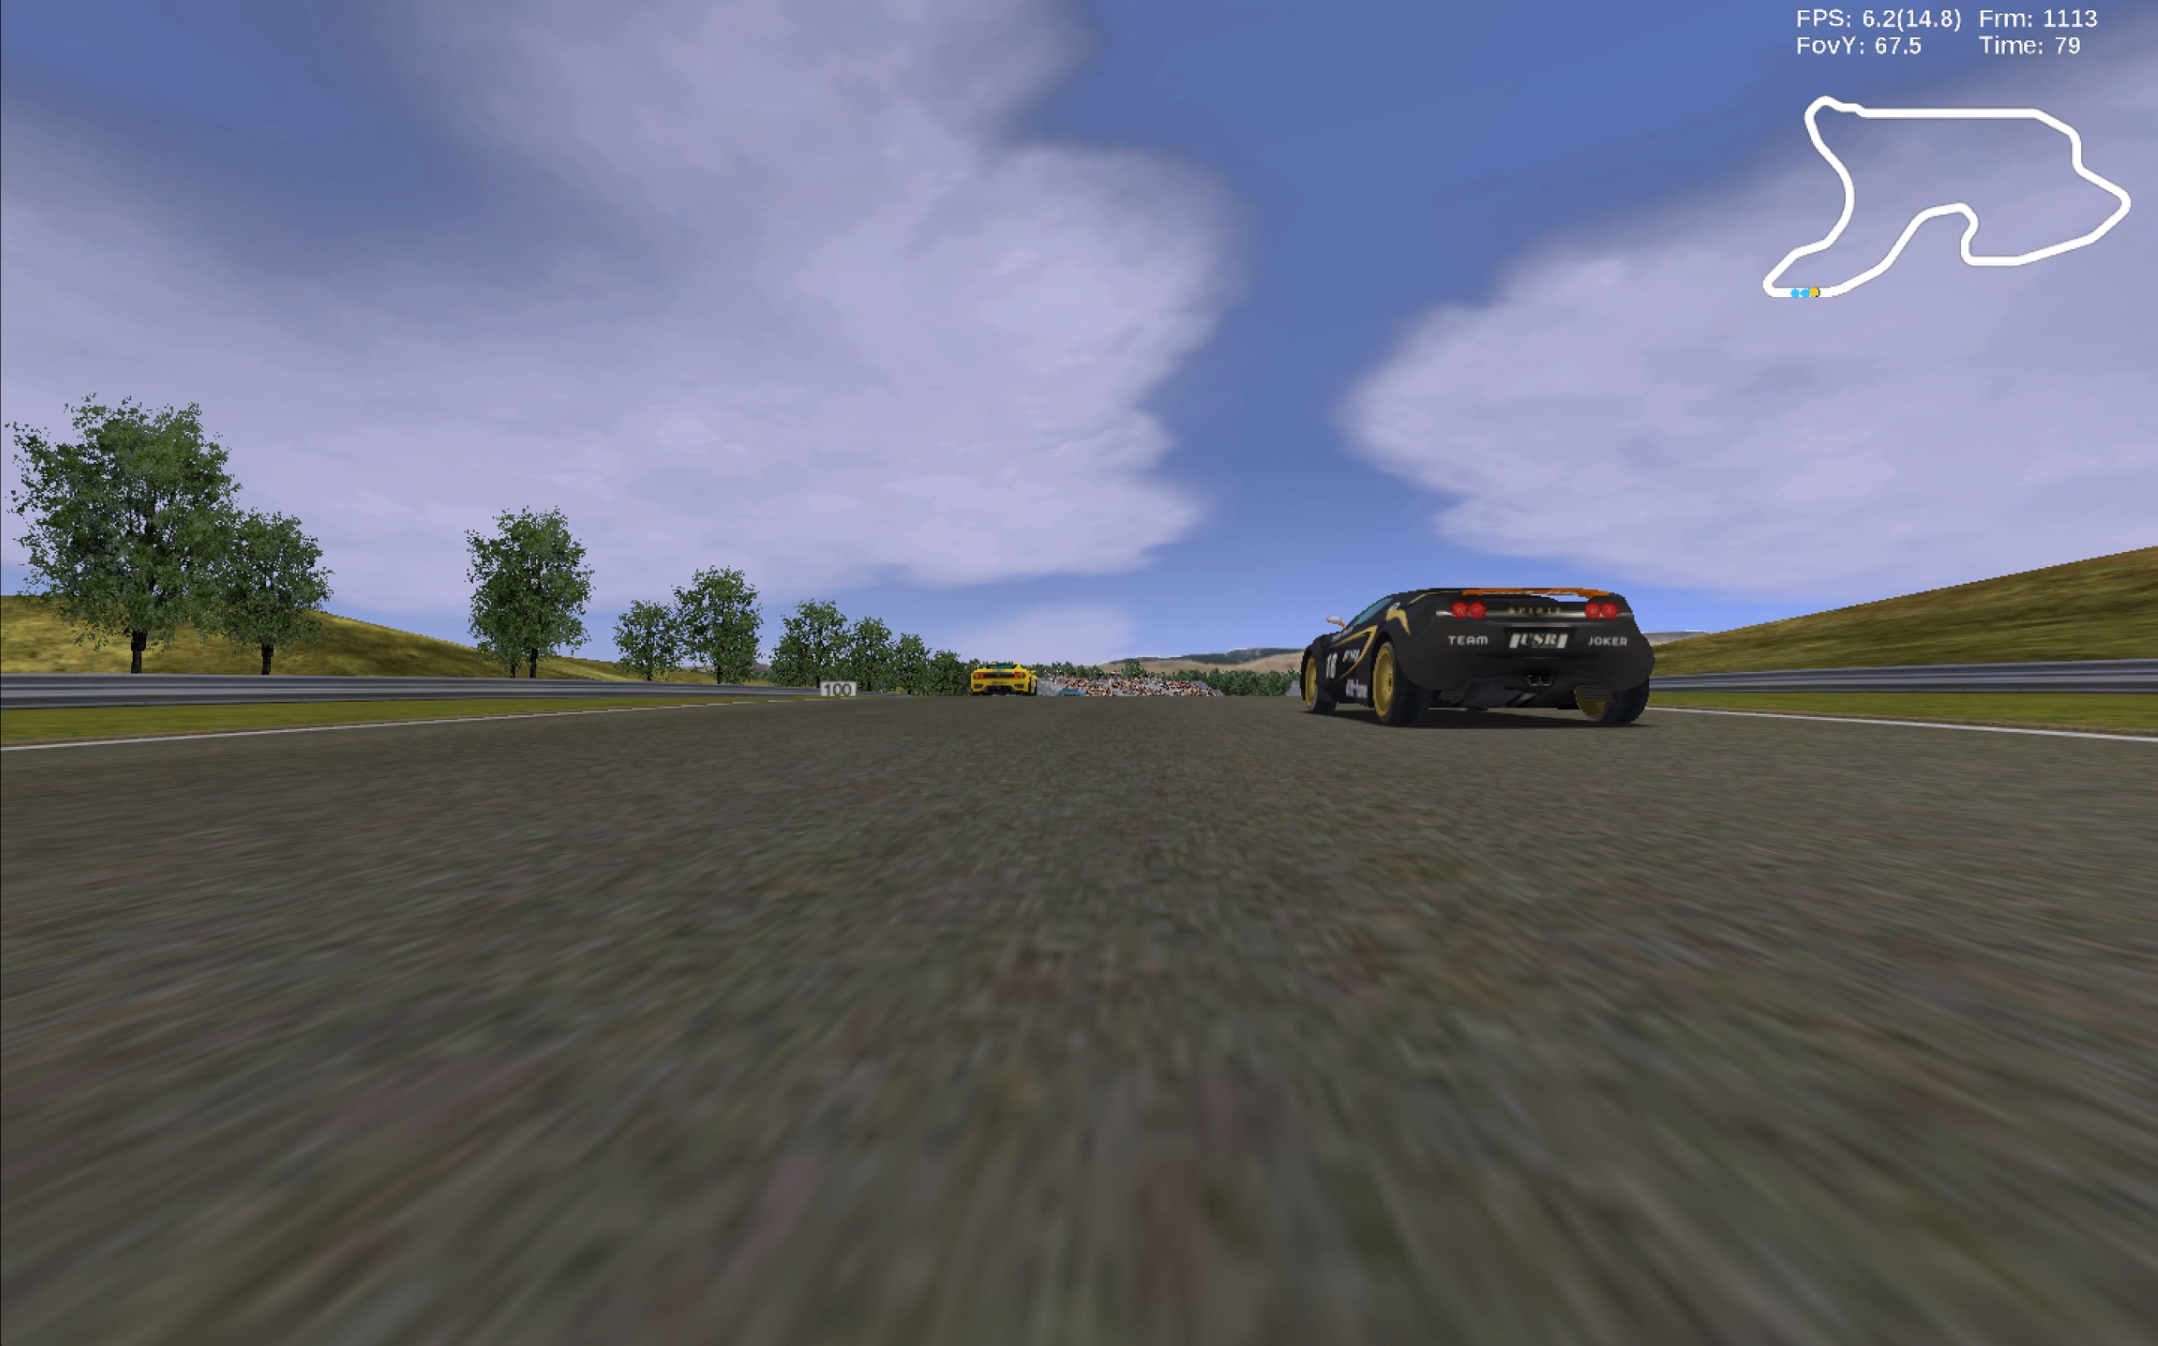Cavallo360: (969, 662, 1040, 699)
Spirit300: (1302, 582, 1656, 727)
